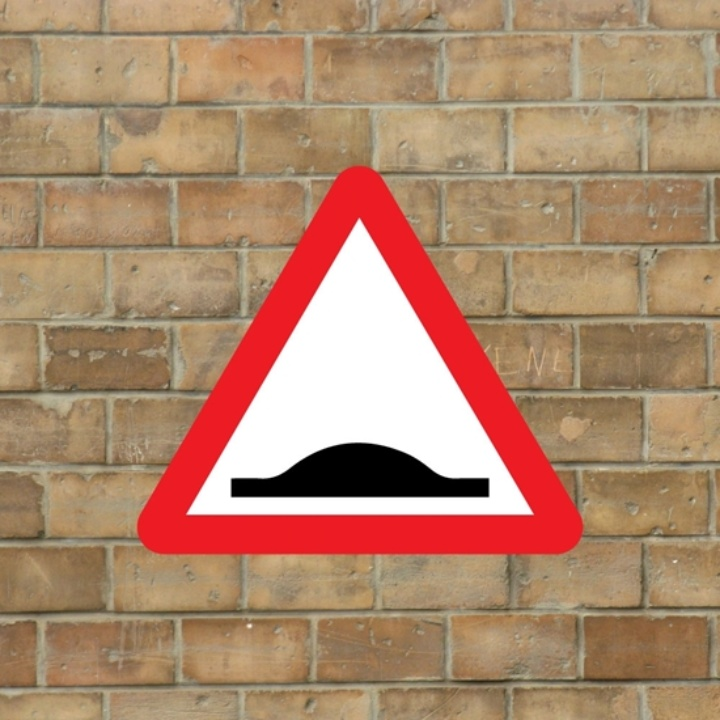bump: (212, 420, 513, 515)
